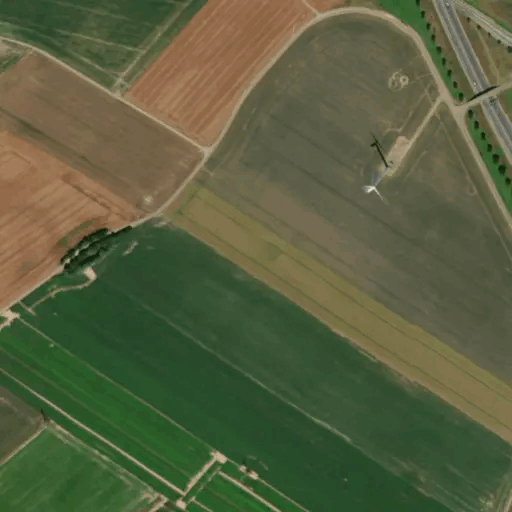wt: (359, 129, 398, 207)
